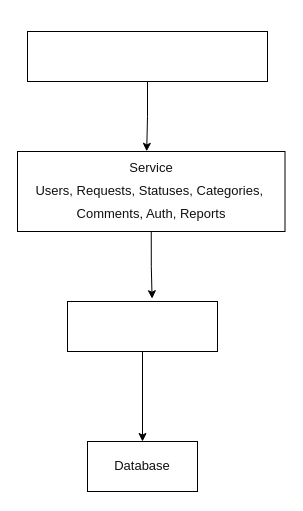
Image size: 303x511. Some labels were removed from this diagram. Here are the shapes that lost their labels. From the top down, the centre of each, then its label:
At pixel 147 56: "Presentation (контроллеры, экраны)".
At pixel 142 326: "Repository (доступ к данным)".
